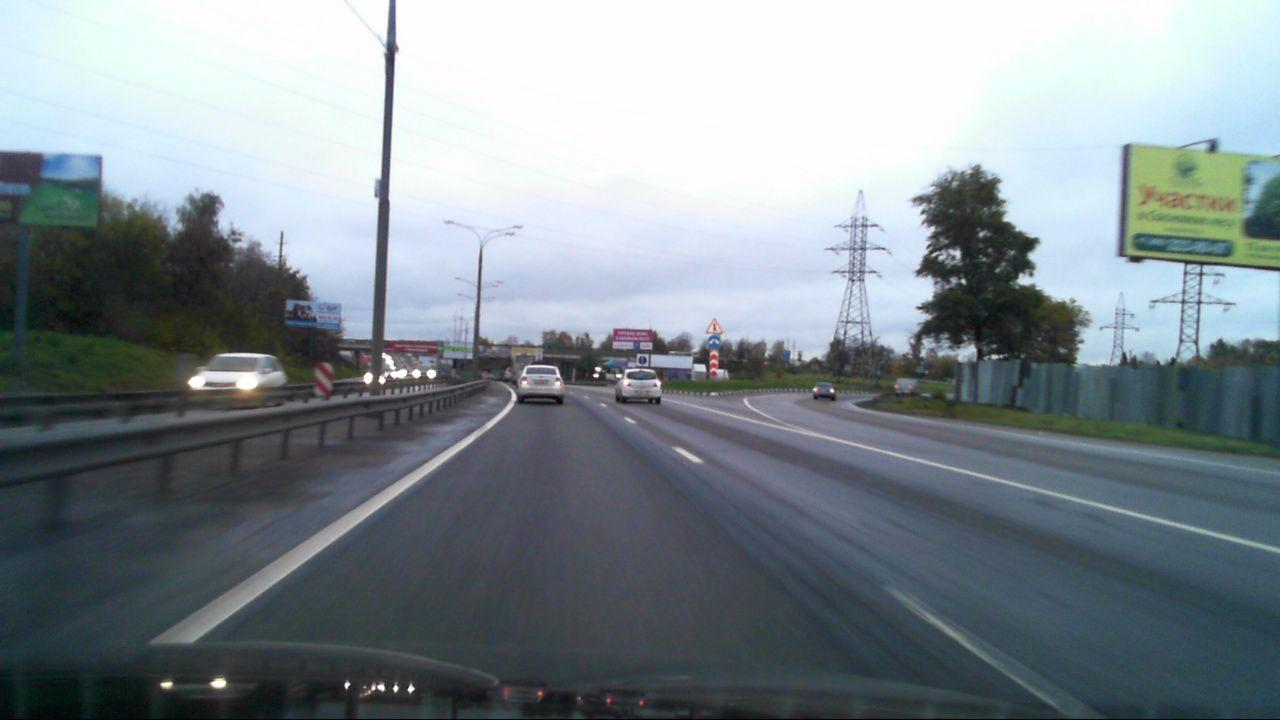2_3_6: (704, 317, 724, 334)
4_1_1: (639, 355, 647, 364)
4_2_3: (706, 335, 725, 348)
8_22_3: (708, 349, 719, 377)
